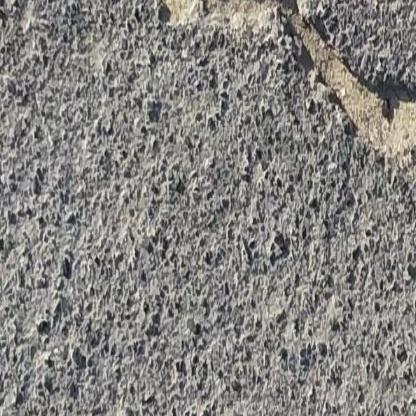Cracks: (134, 0, 416, 179)
